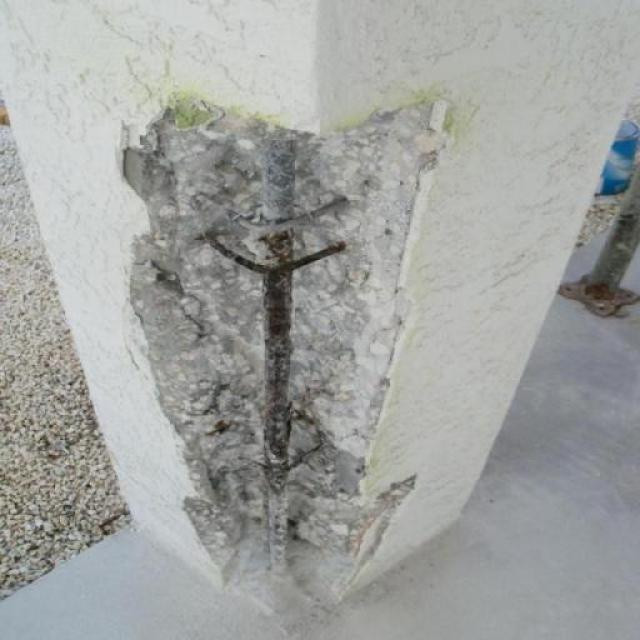D0w0: (120, 101, 432, 606)
